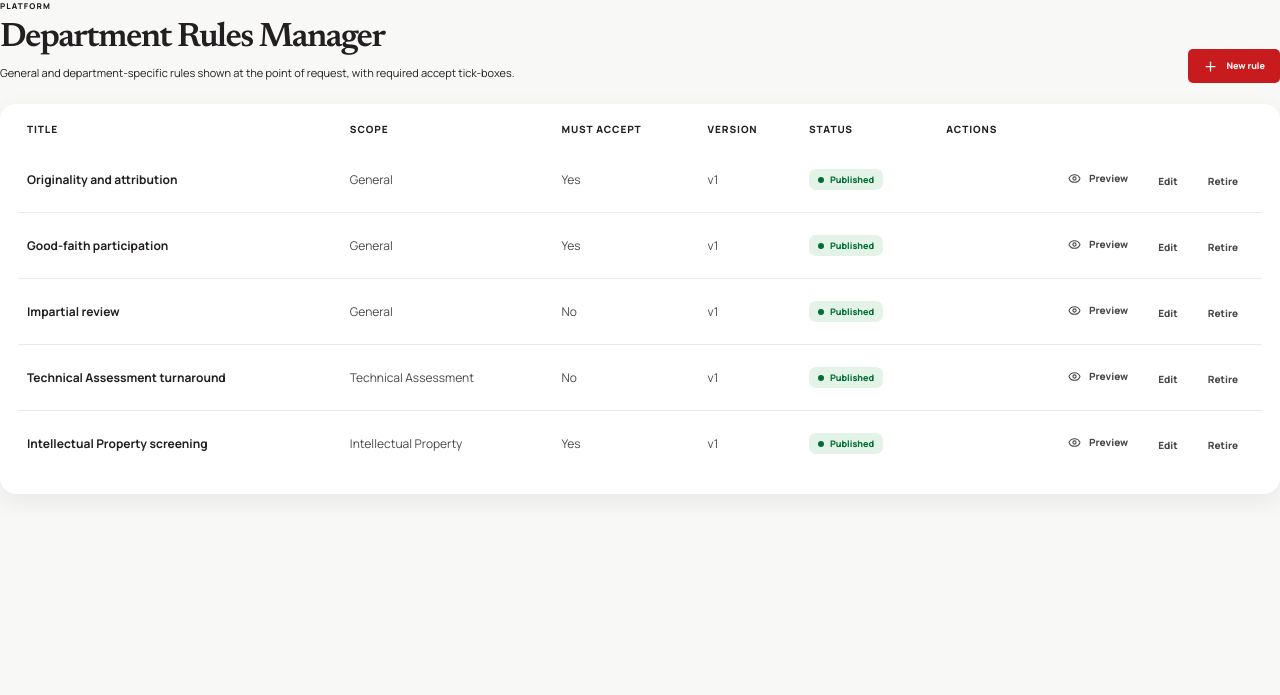
Test: RulesManagerPage › keeps a rule as a draft when only its wording is edited
The image size is (1280, 695).
Expected: the row "Originality and attribution" is shown, 18,147 -> 1262,213
Step 1. Click the button "New rule" → x=1234, y=66, box 1188,49 -> 1279,83
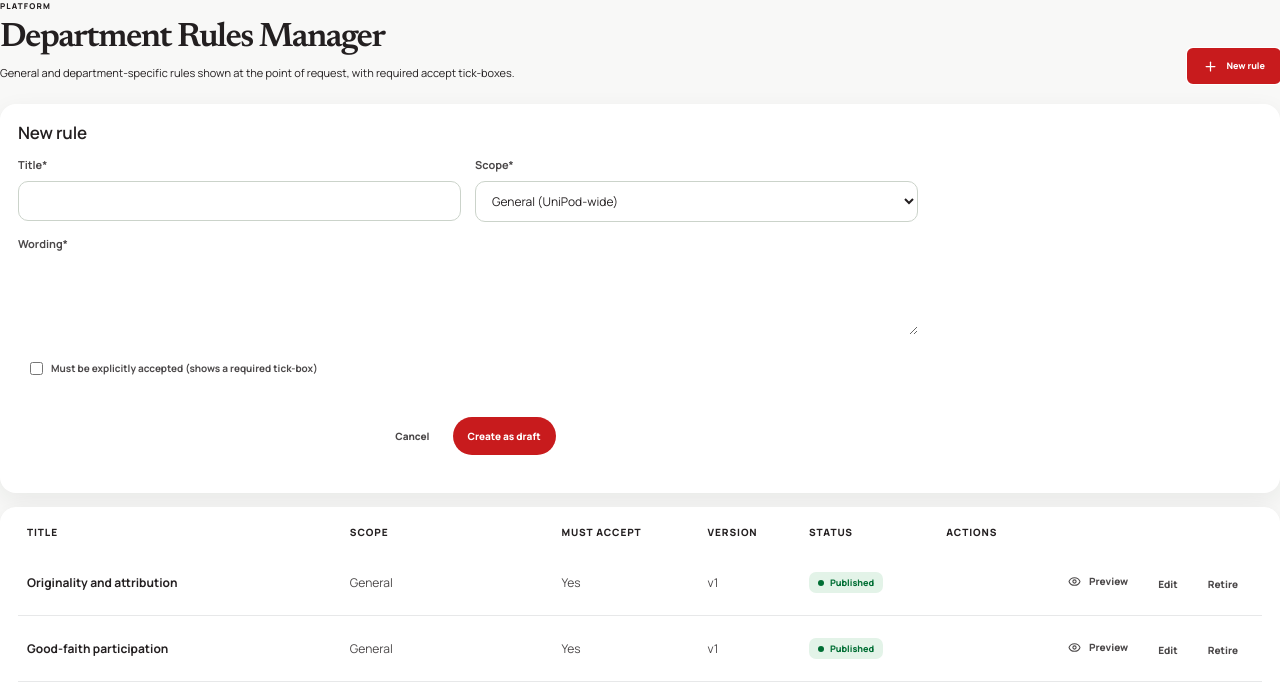
Step 2. Type "Lab access hours" into the field labelled "Title*" → x=240, y=201, box 18,181 -> 461,221
Step 3. Type "The lab is open 9am to 5pm on weekdays." into the text box labelled "Wording*" → x=468, y=297, box 18,259 -> 918,335
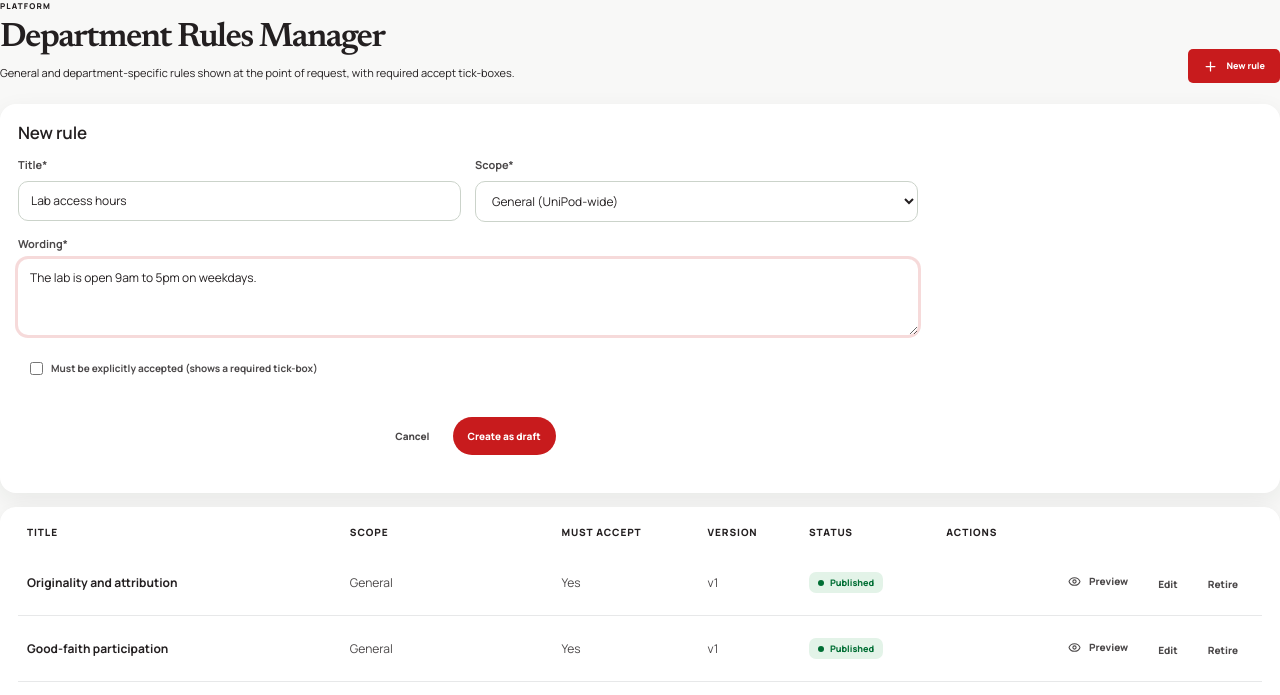
Step 4. Click the button "Create as draft" → x=504, y=436, box 452,417 -> 556,455
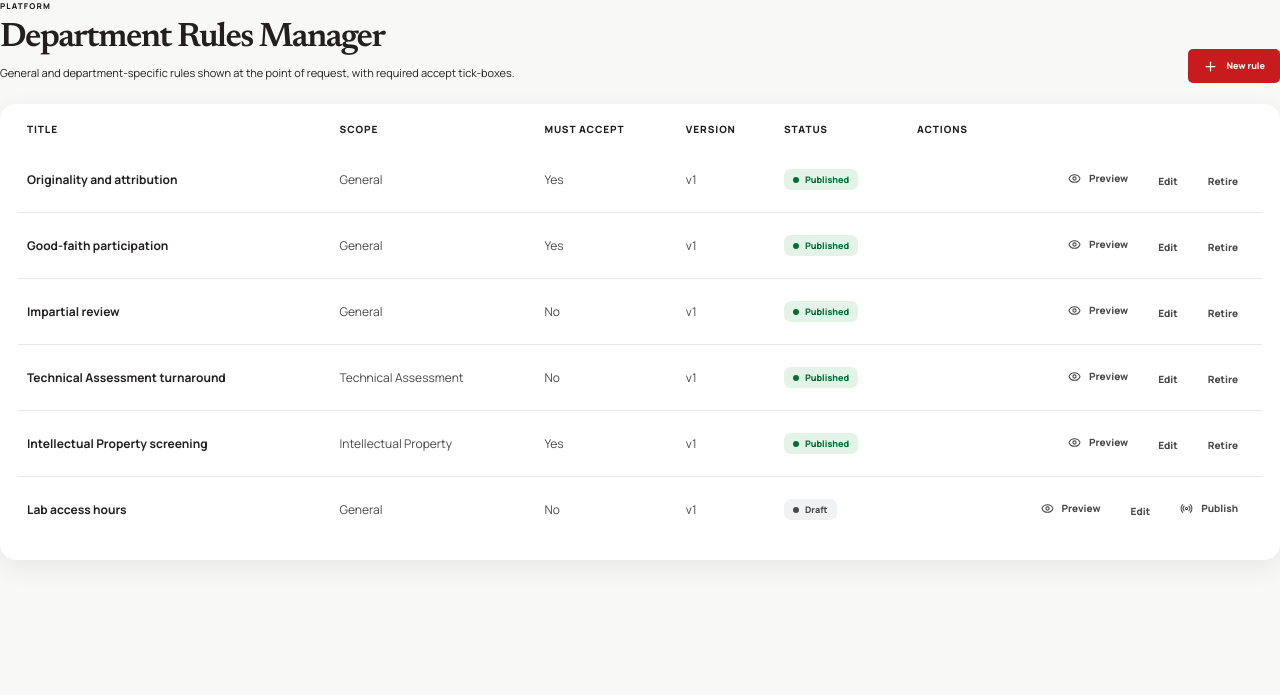
Now the text "Draft" is shown, box 784,499 -> 837,520
Step 5. Click the button "Edit" in the row of "Lab access hours" → x=1140, y=511, box 1116,492 -> 1165,530
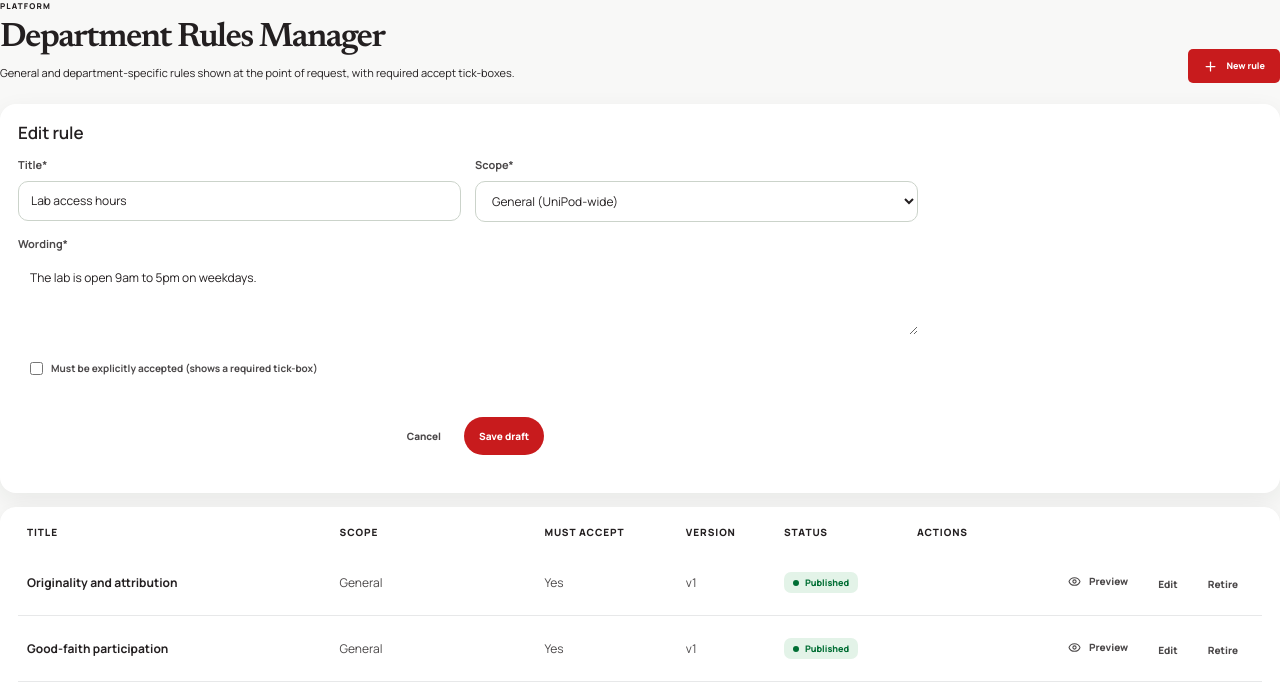
Now the button "Save draft" is shown, box 464,417 -> 544,455
Step 6. Replace the text in the text box labelled "Wording*" with "The lab is open 9am to 6pm on weekdays." → x=468, y=297, box 18,259 -> 918,335
Step 7. Click the button "Save draft" → x=504, y=436, box 464,417 -> 544,455
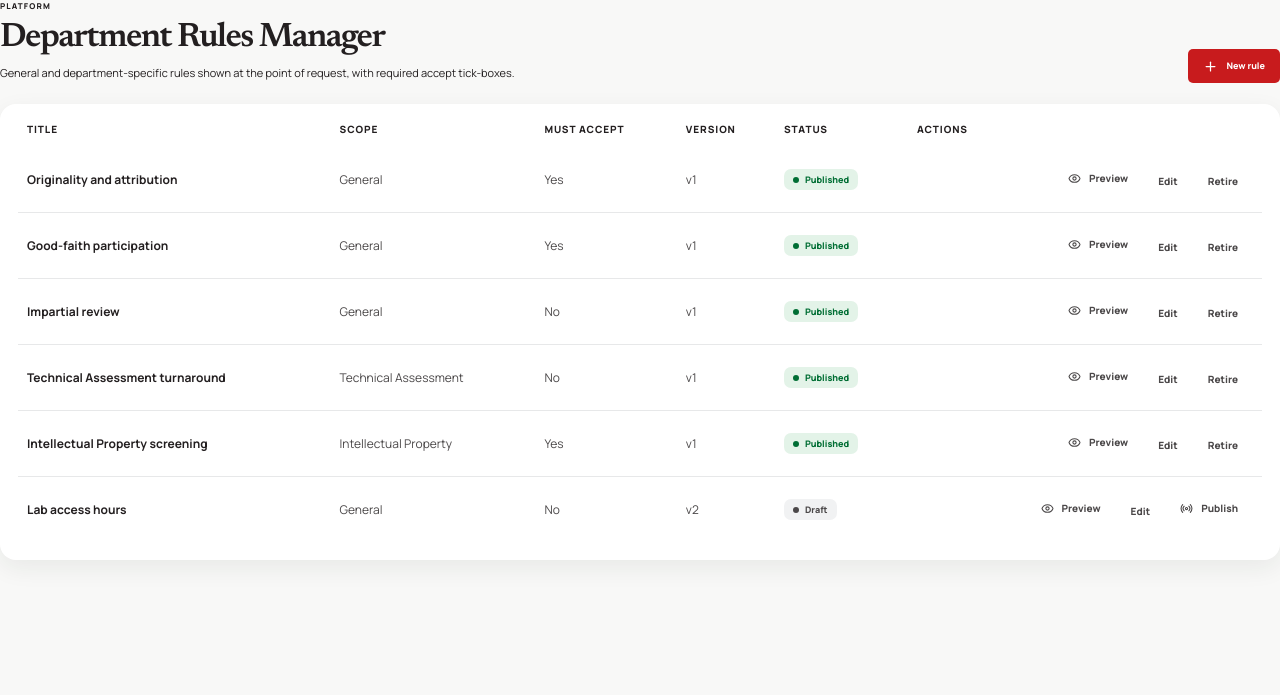
Now the text "Draft" is shown, box 784,499 -> 837,520
Step 8. Click the button "Preview" in the row of "Lab access hours" → x=1071, y=508, box 1026,489 -> 1116,527
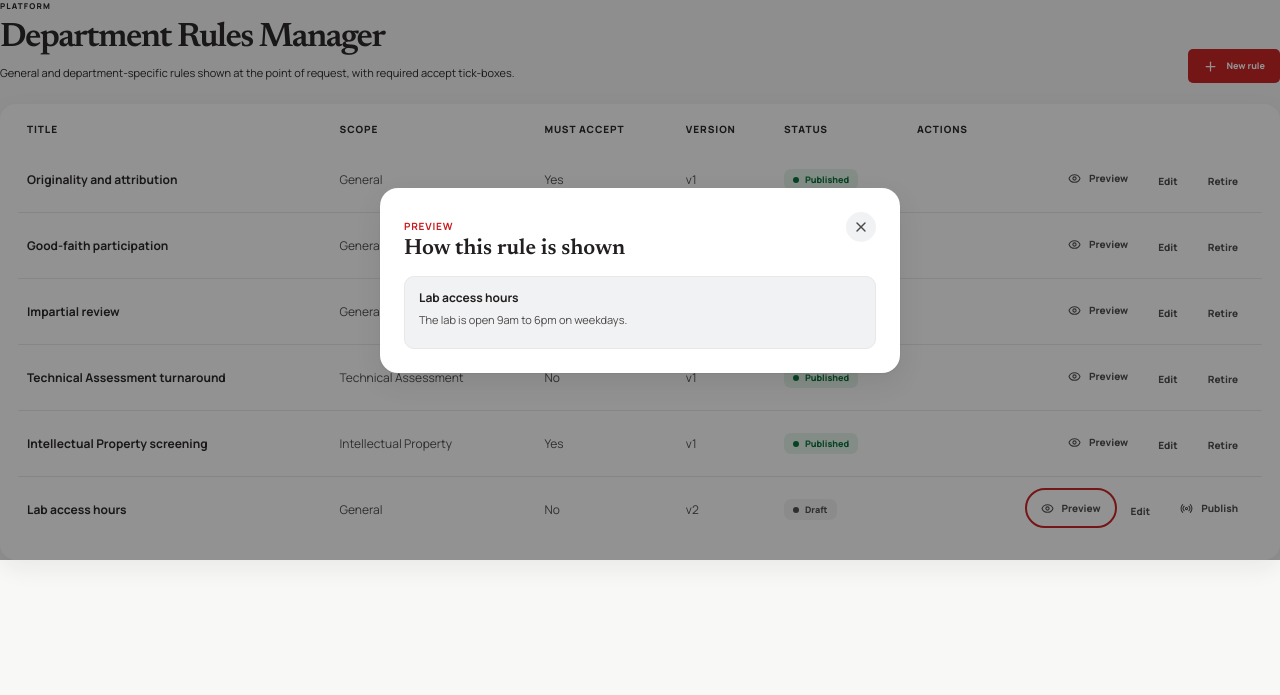
Now the text "The lab is open 9am to 6pm on weekdays." is shown, box 419,312 -> 627,326
